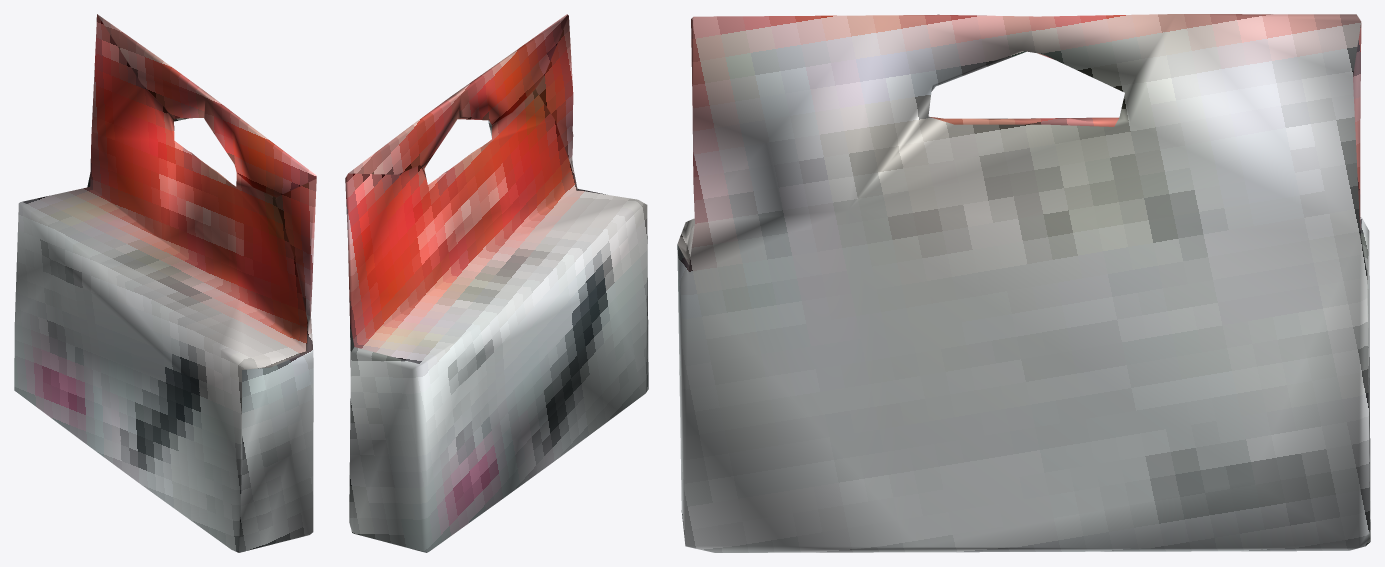
The model's file is Canon_Pixma_Ink_Cartridge_251_M-low.glb.
3 renders of one model, left to right at view 1: azimuth 30°, elevation 25°; view 2: azimuth 150°, elevation 25°; view 3: azimuth 270°, elevation 25°, orthographic. The views are drawn at different scales.
Parts seen in each view (by area): view 1: Canon_Pixma_Ink_Cartridge_251_M; view 2: Canon_Pixma_Ink_Cartridge_251_M; view 3: Canon_Pixma_Ink_Cartridge_251_M.
Part boxes in pixels (x1,y1,x2,y2): Canon_Pixma_Ink_Cartridge_251_M: (14,14,316,552); Canon_Pixma_Ink_Cartridge_251_M: (345,14,648,552); Canon_Pixma_Ink_Cartridge_251_M: (677,14,1370,552).
Bounding box in the file's own units: 0.024 × 0.0968 × 0.1113.
1 material, 1 textured.
